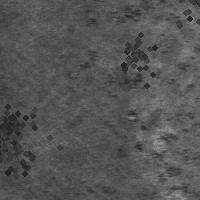rolled-in_scale: (130, 72, 199, 197), (0, 94, 58, 194), (104, 21, 168, 85), (0, 89, 39, 163), (80, 48, 143, 92), (85, 1, 187, 28), (149, 0, 200, 51)
